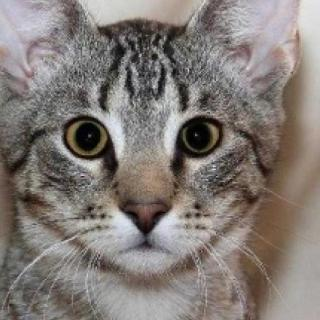cat: (0, 0, 309, 278)
nose: (107, 168, 184, 239)
